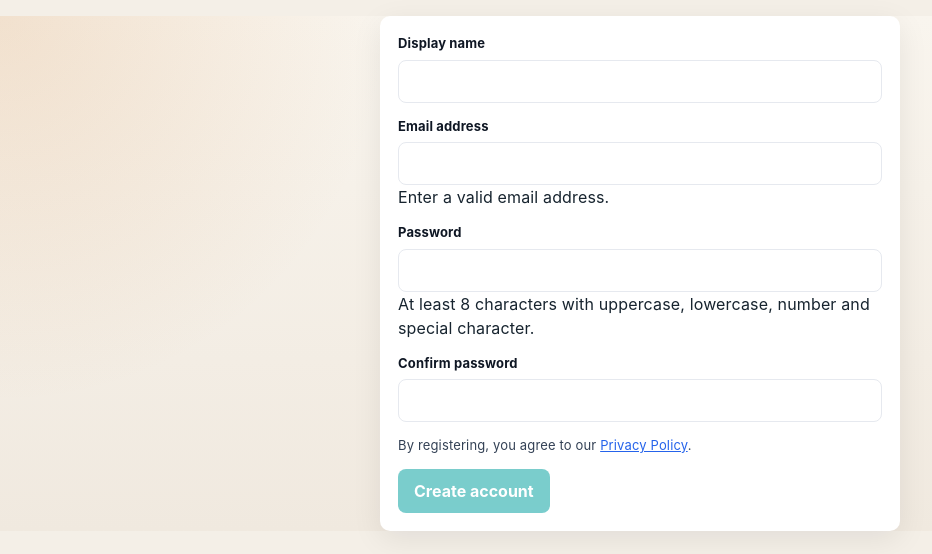
Test: RegistrationForm › submit button is enabled when all fields are valid
The width and height of the screenshot is (932, 554).
In the field labelled "Display name": [640, 81] box [398,60,882,102], type "Jane Doe"
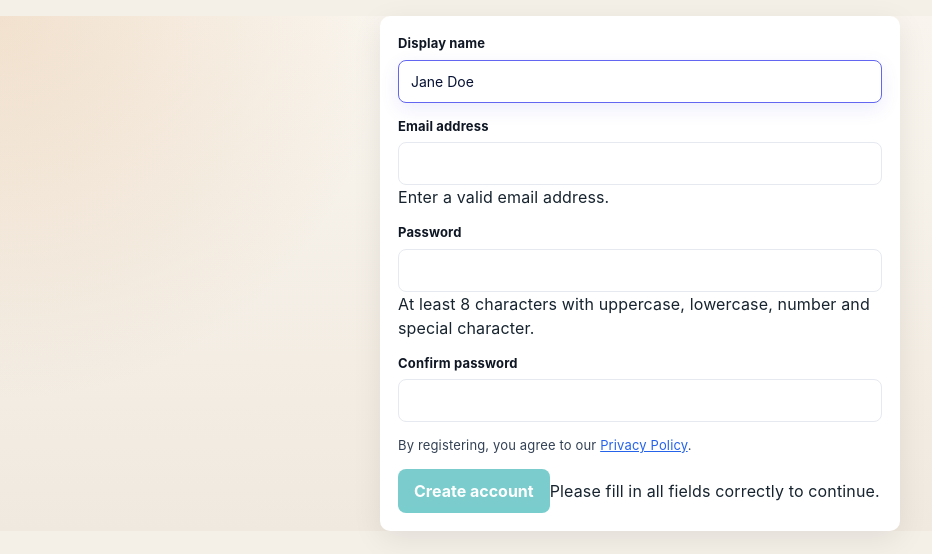
In the field labelled "Email address": [640, 164] box [398,142,882,185], type "jane@example.com"
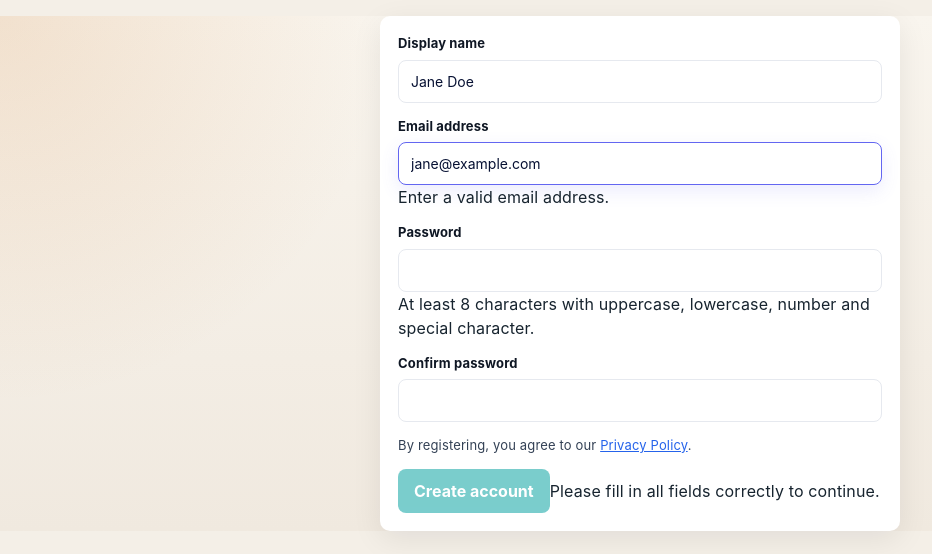
In the password field labelled "Password": [640, 270] box [398,248,882,292], type "SecureP@ss1"
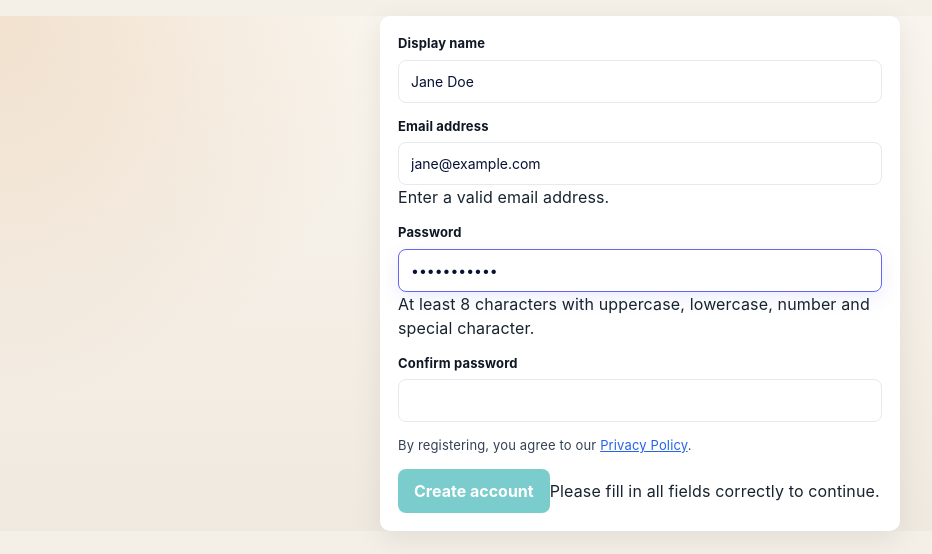
In the password field labelled "Confirm password": [640, 400] box [398,379,882,422], type "SecureP@ss1"
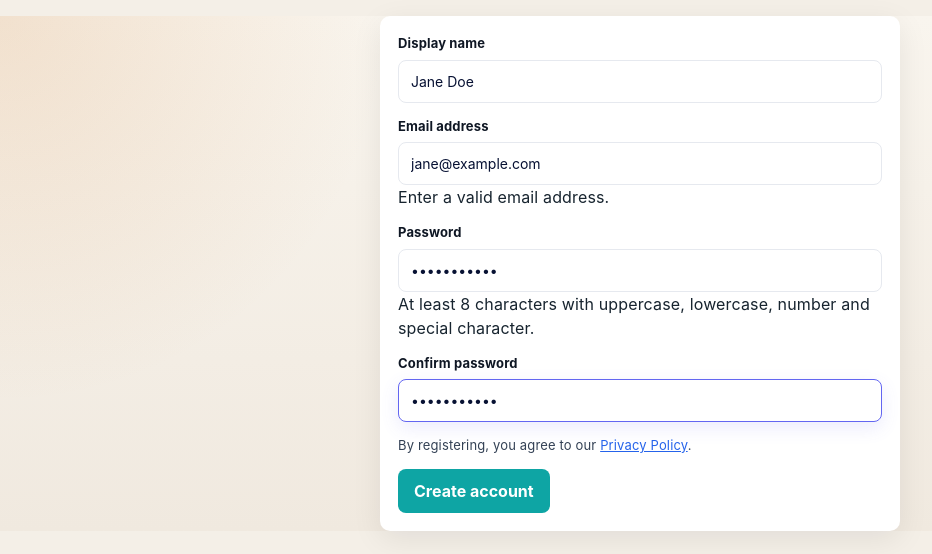
Expected: the button "Create account" is enabled, [398,468,550,512]
